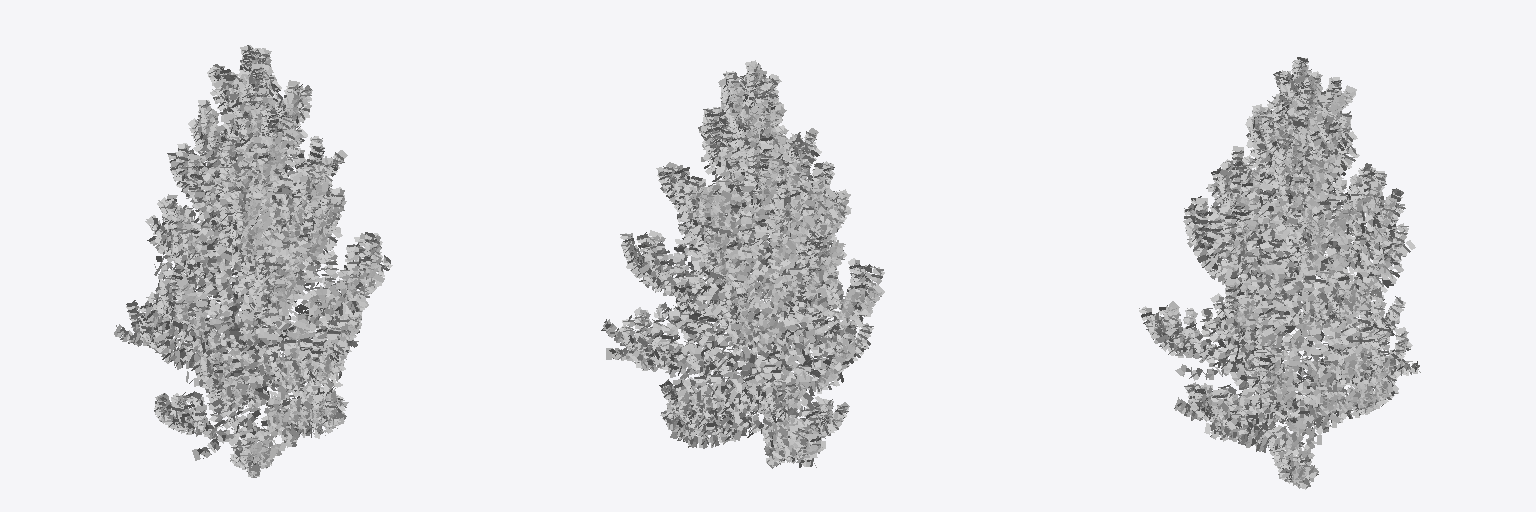
Rendered from crown0.obj.
The picture shows the model from 3 angles: view 1: azimuth 30°, elevation 25°; view 2: azimuth 150°, elevation 25°; view 3: azimuth 270°, elevation 25°; orthographic projection.
Visible parts, largest first — view 1: leaves.010; view 2: leaves.010; view 3: leaves.010.
Part boxes in pixels (bbox=[...]): leaves.010: bbox=[114, 45, 392, 477]; leaves.010: bbox=[601, 60, 884, 468]; leaves.010: bbox=[1139, 57, 1420, 489].
Size of the model in its own units: 7.72 by 13.21 by 8.44.